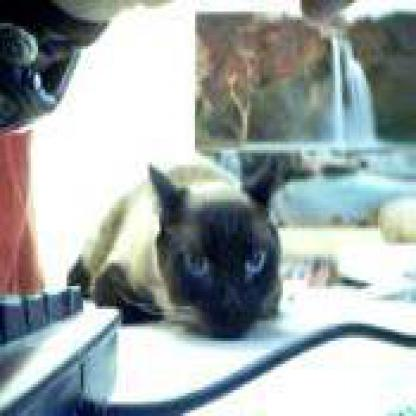cat: (93, 103, 296, 354)
